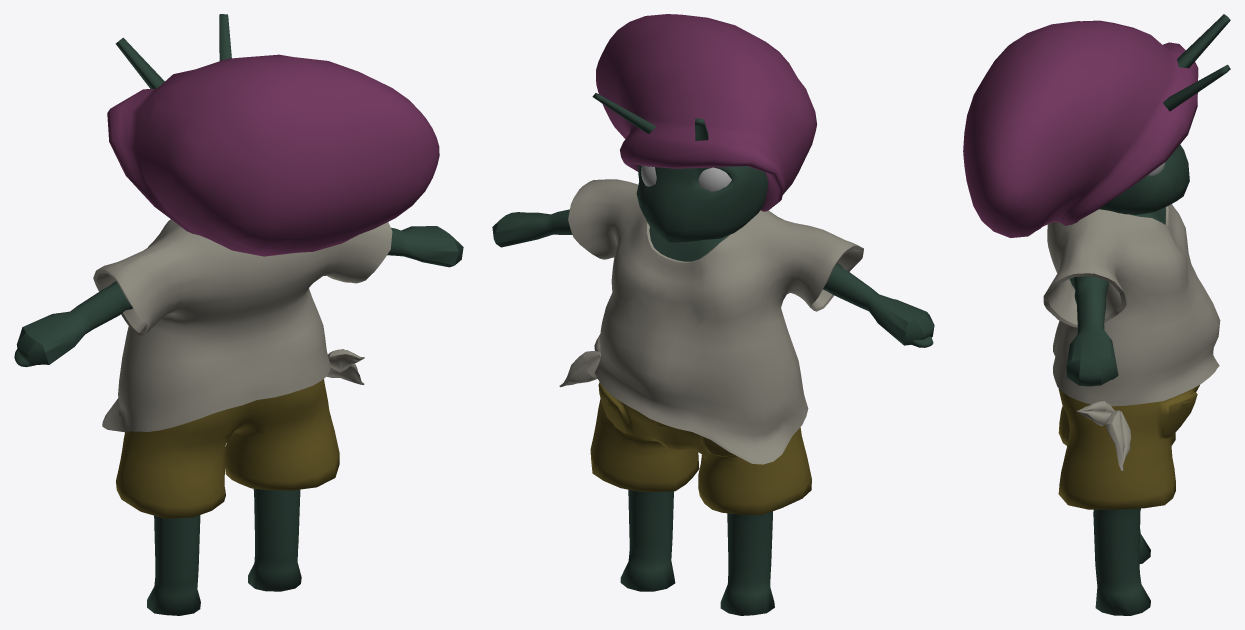
Rendered from jordy.fbx.
The picture shows the model from 3 angles, left to right: view 1: azimuth 30°, elevation 25°; view 2: azimuth 150°, elevation 25°; view 3: azimuth 270°, elevation 25°; orthographic projection. The views are drawn at different scales.
Visible parts, largest first — view 1: shell, Shirt0, Pants, Jordy, headdummy; view 2: Shirt0, shell, Jordy, Pants, headdummy, ShritThing_Original, pSphere2; view 3: shell, Shirt0, Pants, Jordy, headdummy, ShritThing_Original, ShritThing_Original1.
Part boxes in pixels (x1,y1,x2,y2): shell: [107, 54, 439, 256]; Shirt0: [93, 219, 392, 432]; Pants: [116, 379, 339, 518]; Jordy: [14, 226, 463, 615]; headdummy: [115, 14, 231, 88]; Shirt0: [568, 179, 863, 464]; shell: [596, 14, 816, 211]; Jordy: [492, 209, 934, 615]; Pants: [590, 382, 811, 514]; headdummy: [592, 93, 767, 242]; ShritThing_Original: [559, 351, 600, 387]; pSphere2: [698, 167, 731, 191]; shell: [963, 20, 1198, 237]; Shirt0: [1043, 204, 1220, 406]; Pants: [1058, 385, 1199, 509]; Jordy: [1066, 207, 1165, 615]; headdummy: [1099, 14, 1230, 214]; ShritThing_Original: [1105, 410, 1131, 471]; ShritThing_Original1: [1076, 400, 1114, 425].
Bounding box in the file's own units: 7.12 × 8.43 × 3.68.
